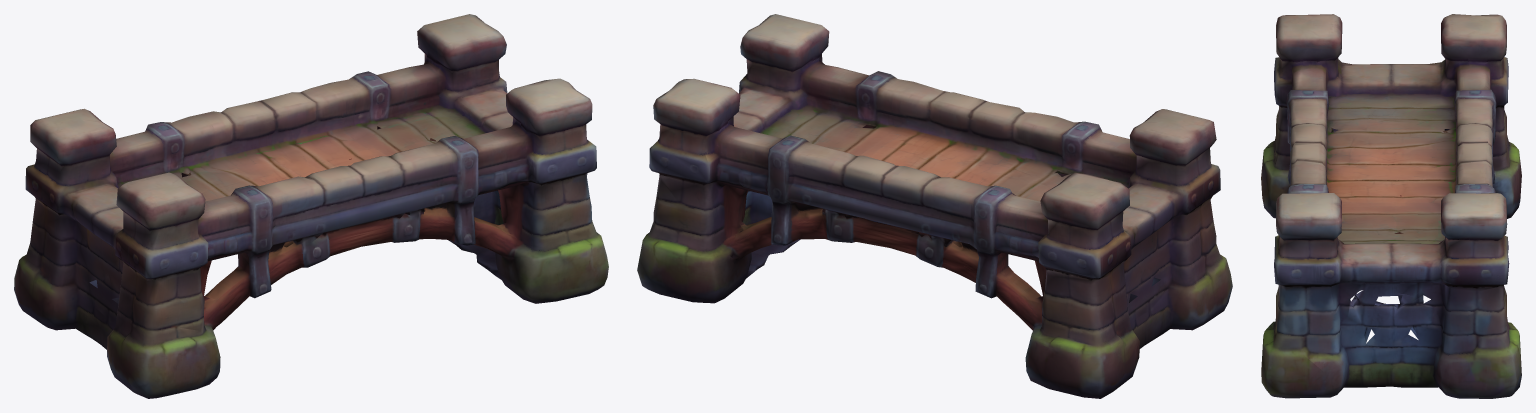
Rendered from Bridge.fbx.
3 views of the same model, side by side, from view 1: azimuth 30°, elevation 25°; view 2: azimuth 150°, elevation 25°; view 3: azimuth 270°, elevation 25° (orthographic). The views are drawn at different scales.
Parts seen in each view (by area): view 1: Bridge; view 2: Bridge; view 3: Bridge.
Part boxes in pixels (<box>): Bridge: <box>14,14,608,398</box>; Bridge: <box>637,14,1232,398</box>; Bridge: <box>1261,14,1521,398</box>.
Bounding box in the file's own units: 0.9995 × 0.3868 × 0.5073.
